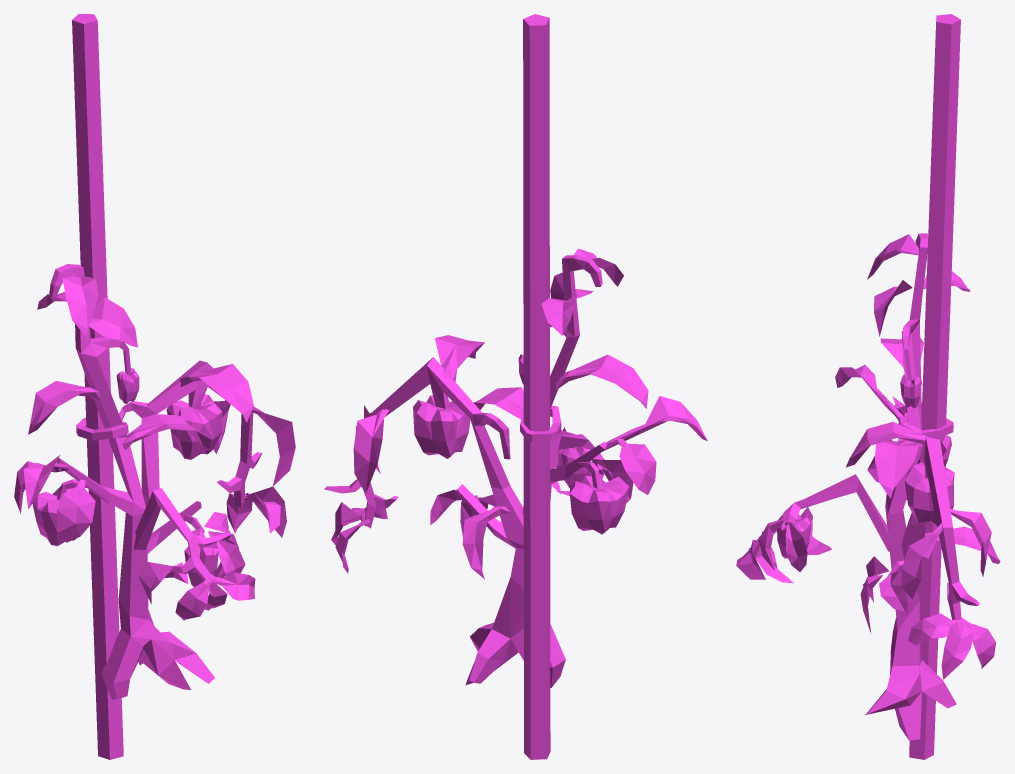
Rendered from SM_Bellpepper_Dead.fbx.
3 views of the same model, side by side, from view 1: azimuth 30°, elevation 25°; view 2: azimuth 150°, elevation 25°; view 3: azimuth 270°, elevation 25° (orthographic). The views are drawn at different scales.
Visible parts, largest first — view 1: SM_Bellpepper_Dead; view 2: SM_Bellpepper_Dead; view 3: SM_Bellpepper_Dead.
Boxes of the visible parts, x1,y1,x2,y2 form: SM_Bellpepper_Dead: [14, 14, 295, 759]; SM_Bellpepper_Dead: [324, 14, 707, 759]; SM_Bellpepper_Dead: [736, 14, 1000, 759].
Size of the model in its own units: 0.9209 by 2.07 by 0.6784.
